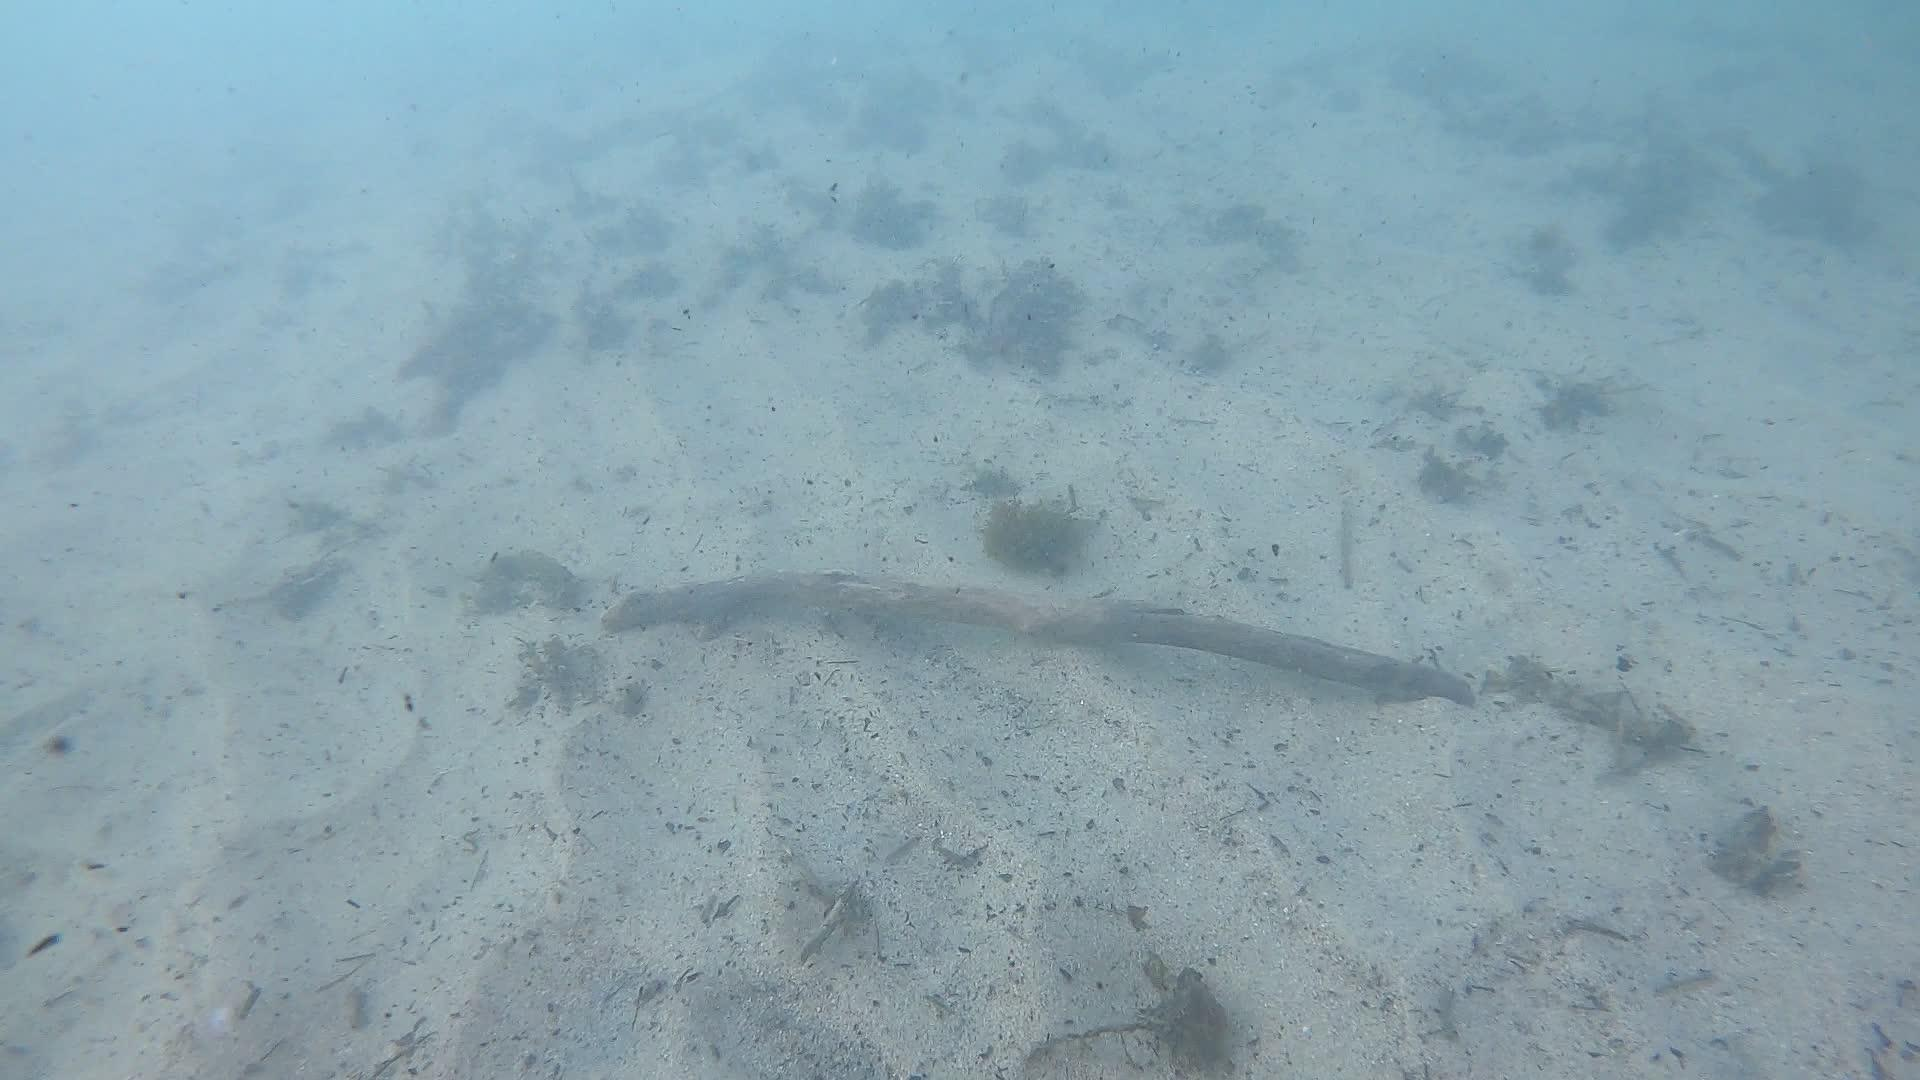wood: (596, 564, 1480, 709)
